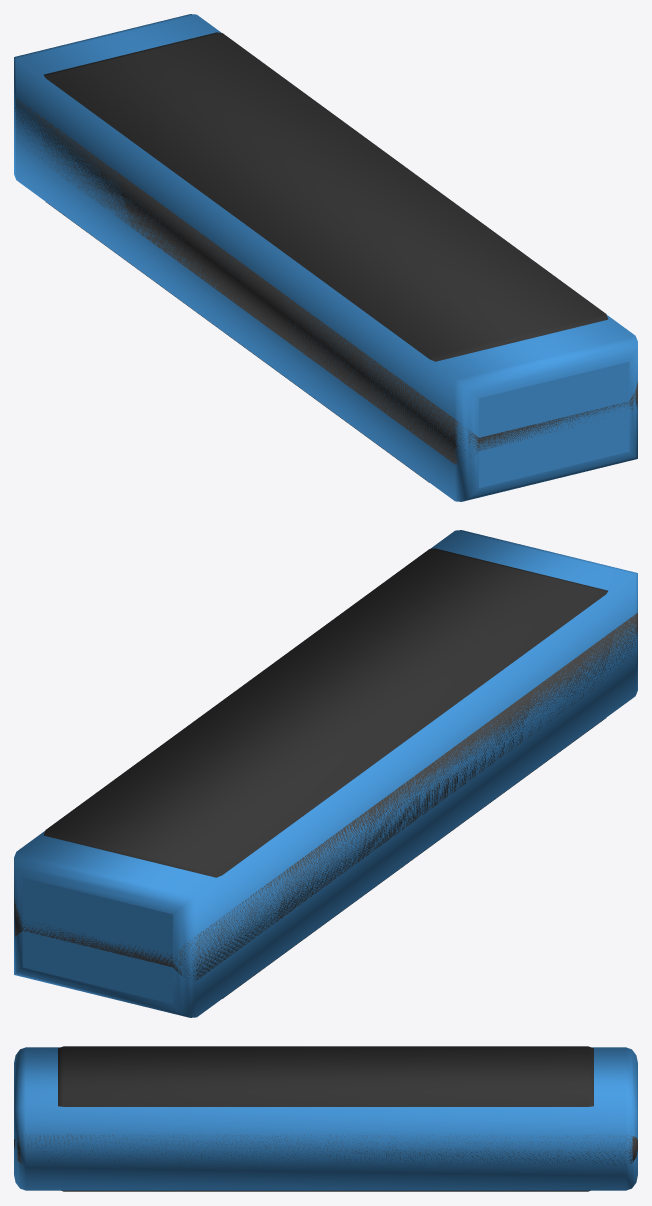
File: laptop.glb
The picture shows the model from 3 angles, top to bottom: view 1: azimuth 30°, elevation 25°; view 2: azimuth 150°, elevation 25°; view 3: azimuth 270°, elevation 25°; orthographic projection. The views are drawn at different scales.
Parts seen in each view (by area): view 1: Curve; view 2: Curve; view 3: Curve.
Boxes of the visible parts, left/top/right/bottom form: Curve: left=14, top=14, right=637, bottom=501; Curve: left=14, top=530, right=637, bottom=1017; Curve: left=14, top=1046, right=637, bottom=1191.
Size of the model in its own units: 1.2 by 0.802 by 5.26.
